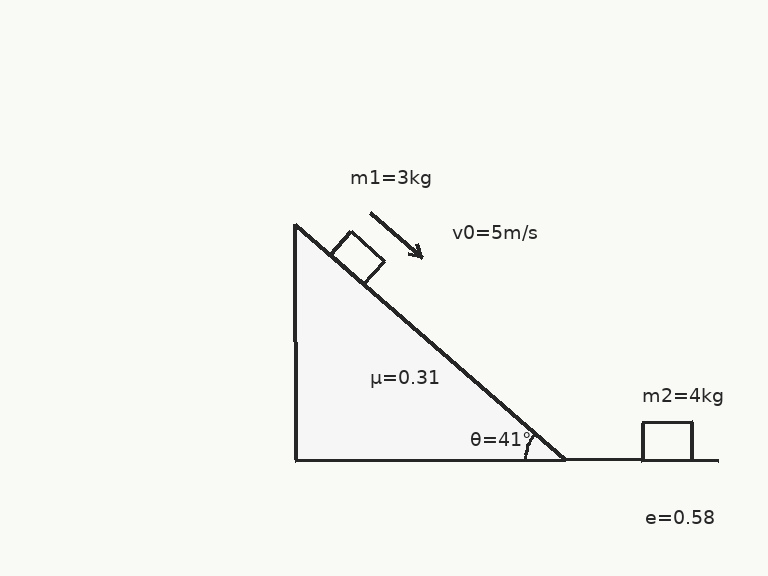block: (328, 229, 386, 286), (639, 421, 695, 462)
ramp: (293, 223, 567, 462)
